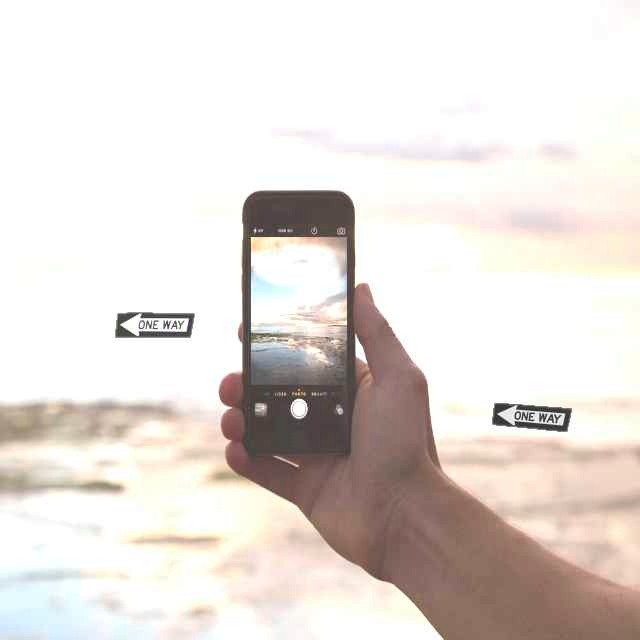ONE_WAY_ left: (491, 402, 572, 432), (114, 312, 195, 338)
